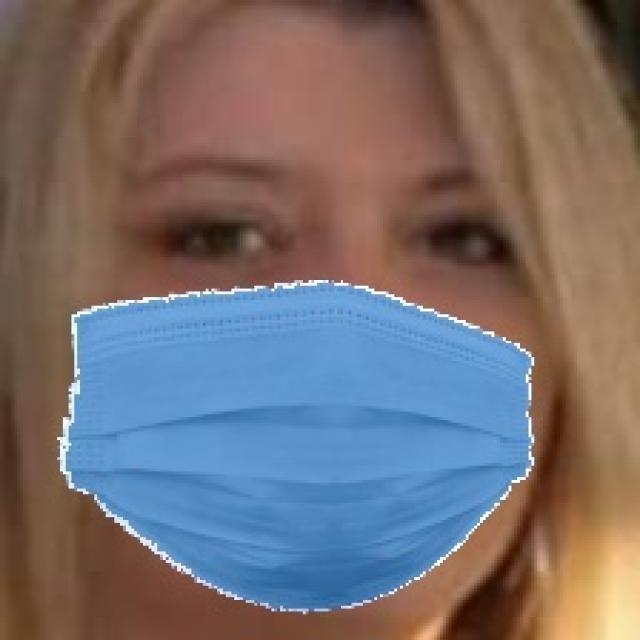mask: (39, 280, 559, 594)
